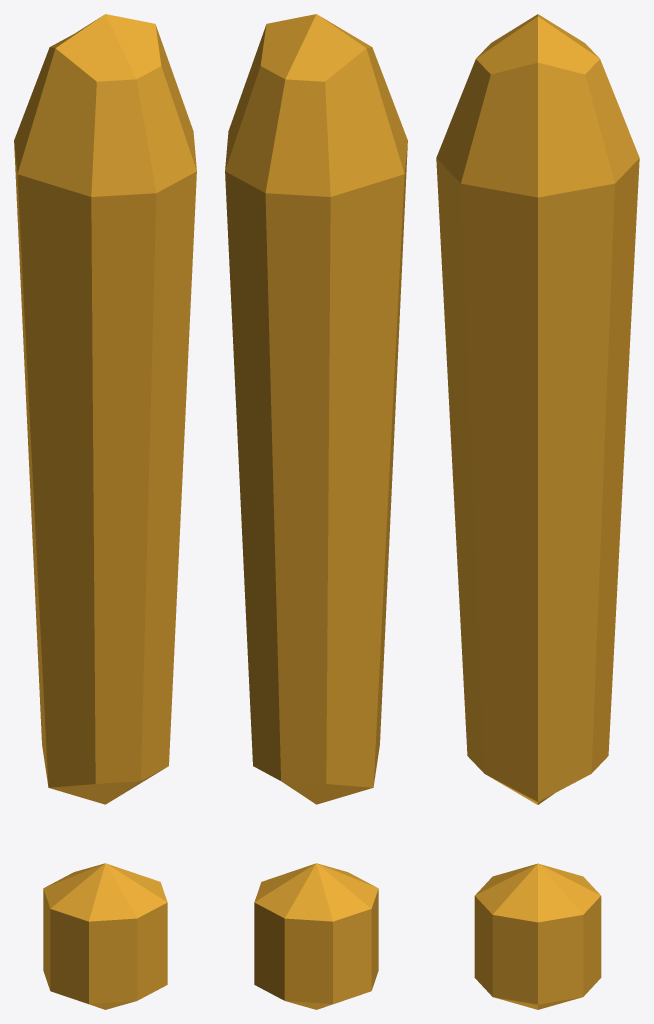
The model's file is ExclamationPoint.fbx.
The picture shows the model from 3 angles, left to right: view 1: azimuth 30°, elevation 25°; view 2: azimuth 150°, elevation 25°; view 3: azimuth 270°, elevation 25°; orthographic projection.
Parts seen in each view (by area): view 1: Cube; view 2: Cube; view 3: Cube.
Boxes of the visible parts, bbox=[...] form: Cube: bbox=[14, 14, 196, 1009]; Cube: bbox=[225, 14, 407, 1009]; Cube: bbox=[436, 14, 639, 1009].
Size of the model in its own units: 16.51 by 89.26 by 16.56.
